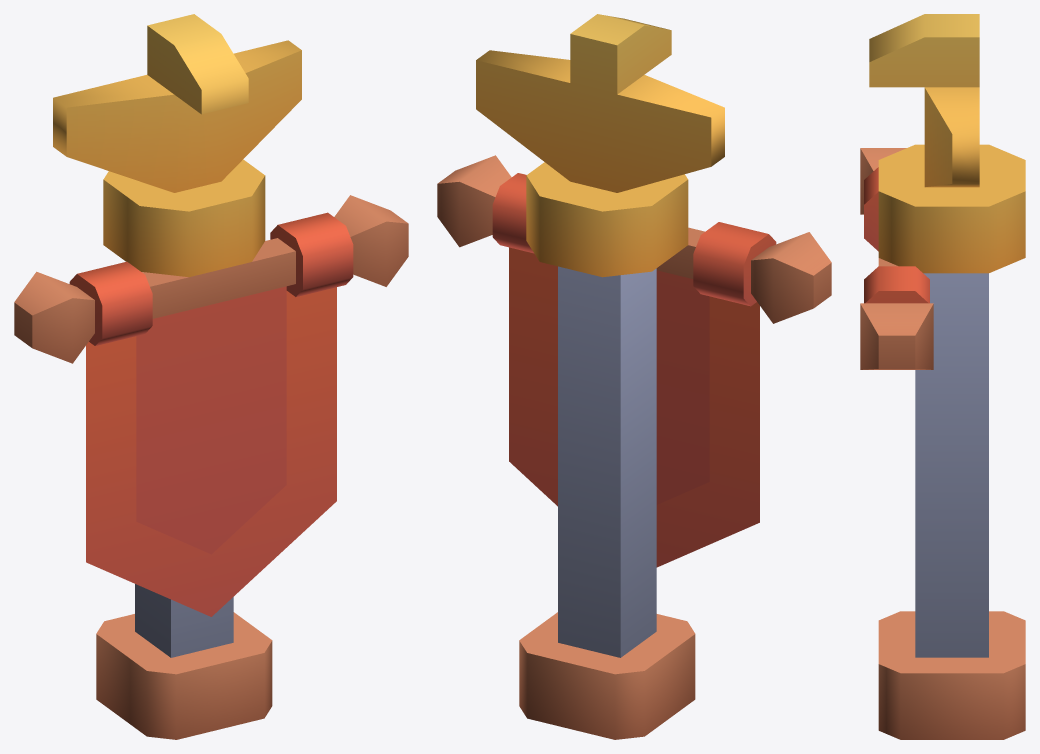
The model's file is ken_banner.glb.
3 views of the same model, side by side, from view 1: azimuth 30°, elevation 25°; view 2: azimuth 150°, elevation 25°; view 3: azimuth 270°, elevation 25° (orthographic).
Visible parts, largest first — view 1: banner; view 2: banner; view 3: banner.
Boxes of the visible parts, <box> form: banner: <box>14,14,408,739</box>; banner: <box>437,14,831,739</box>; banner: <box>860,14,1025,739</box>.
Bounding box in the file's own units: 0.6 × 1.02 × 0.225.
1 material, 1 textured.
